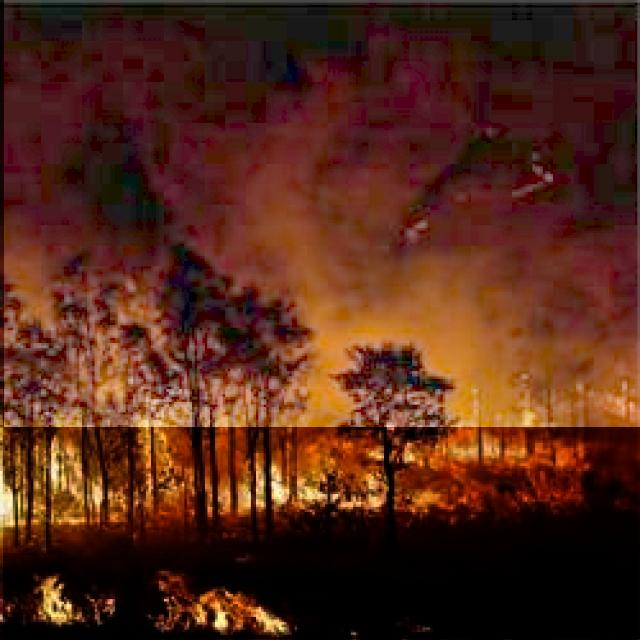Fire: (3, 381, 640, 639)
Smoke: (4, 0, 640, 427)
